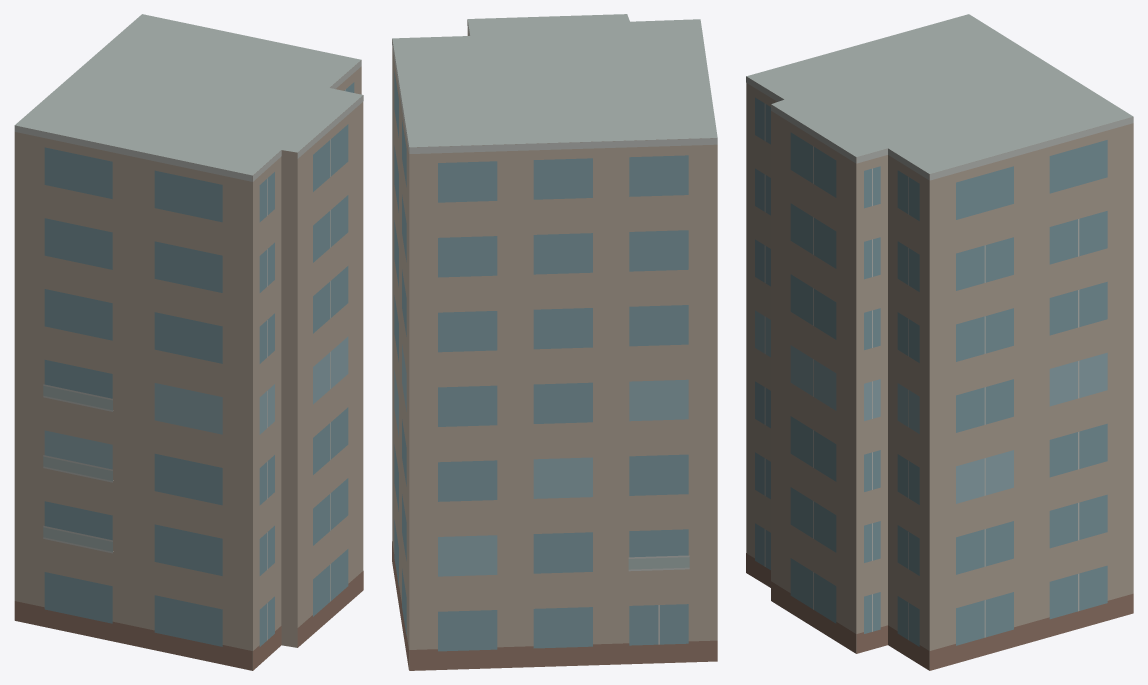
Rendered from survey-upis-32965211.glb.
The picture shows the model from 3 angles, left to right: view 1: azimuth 30°, elevation 25°; view 2: azimuth 150°, elevation 25°; view 3: azimuth 270°, elevation 25°; orthographic projection. The views are drawn at different scales.
Parts seen in each view (by area): view 1: survey-upis-32965211.tmp; view 2: survey-upis-32965211.tmp; view 3: survey-upis-32965211.tmp.
Part boxes in pixels (left/top/right/bottom): survey-upis-32965211.tmp: left=14, top=14, right=363, bottom=670; survey-upis-32965211.tmp: left=392, top=14, right=717, bottom=670; survey-upis-32965211.tmp: left=746, top=14, right=1133, bottom=670.
Size of the model in its own units: 13.01 by 18.8 by 13.3.
